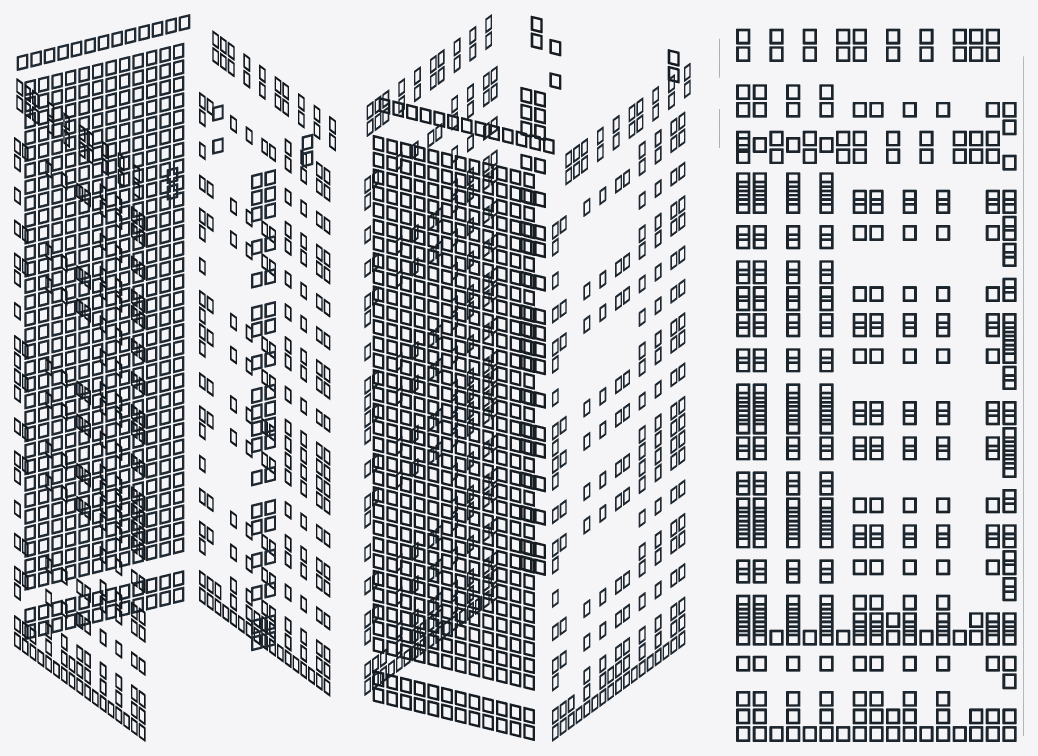
The model's file is building-160.glb.
The picture shows the model from 3 angles, left to right: view 1: azimuth 30°, elevation 25°; view 2: azimuth 150°, elevation 25°; view 3: azimuth 270°, elevation 25°; orthographic projection. The views are drawn at different scales.
Visible parts, largest first — view 1: building-160-cassette-export; view 2: building-160-cassette-export; view 3: building-160-cassette-export.
Boxes of the visible parts, <box> form: building-160-cassette-export: <box>14,14,335,741</box>; building-160-cassette-export: <box>364,14,690,741</box>; building-160-cassette-export: <box>719,28,1023,741</box>.
Size of the model in its own units: 52.31 by 151 by 65.88.
